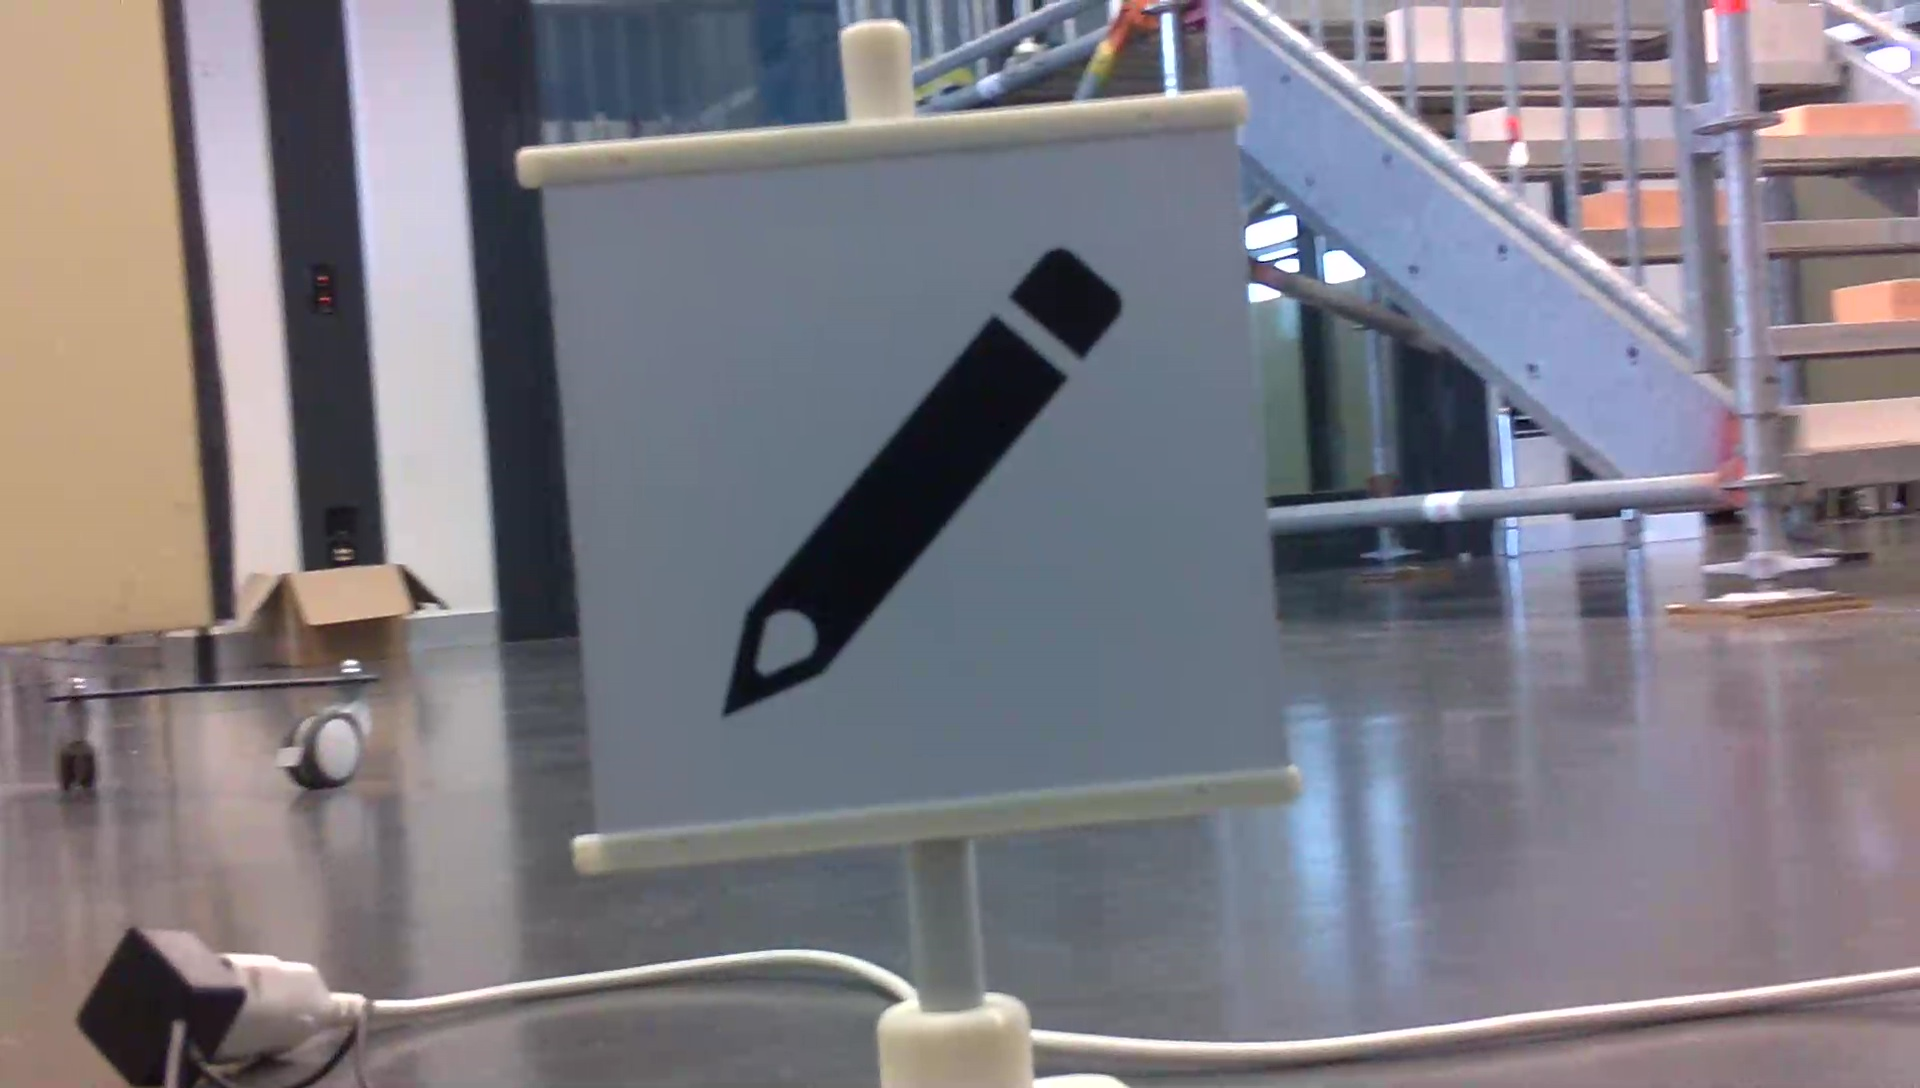brick: (1800, 396, 1920, 440), (1771, 103, 1920, 132), (1836, 278, 1920, 317), (1755, 7, 1818, 54)
pencil: (702, 233, 1138, 728)
